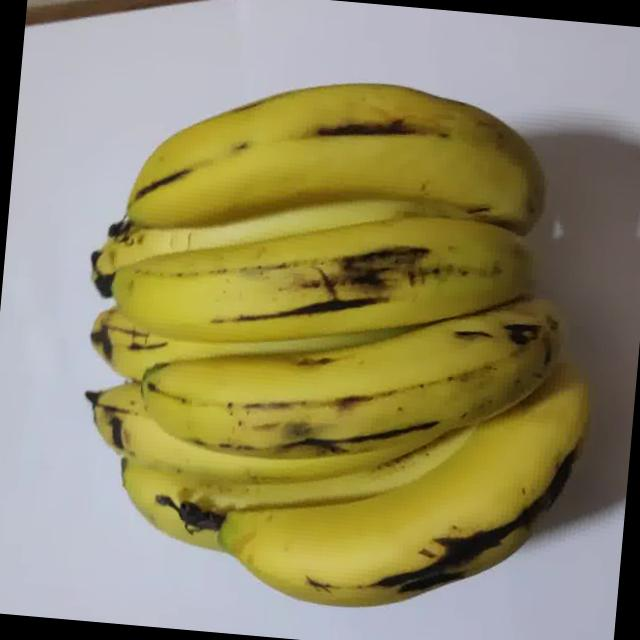banana_pacche: (4, 11, 640, 640)
